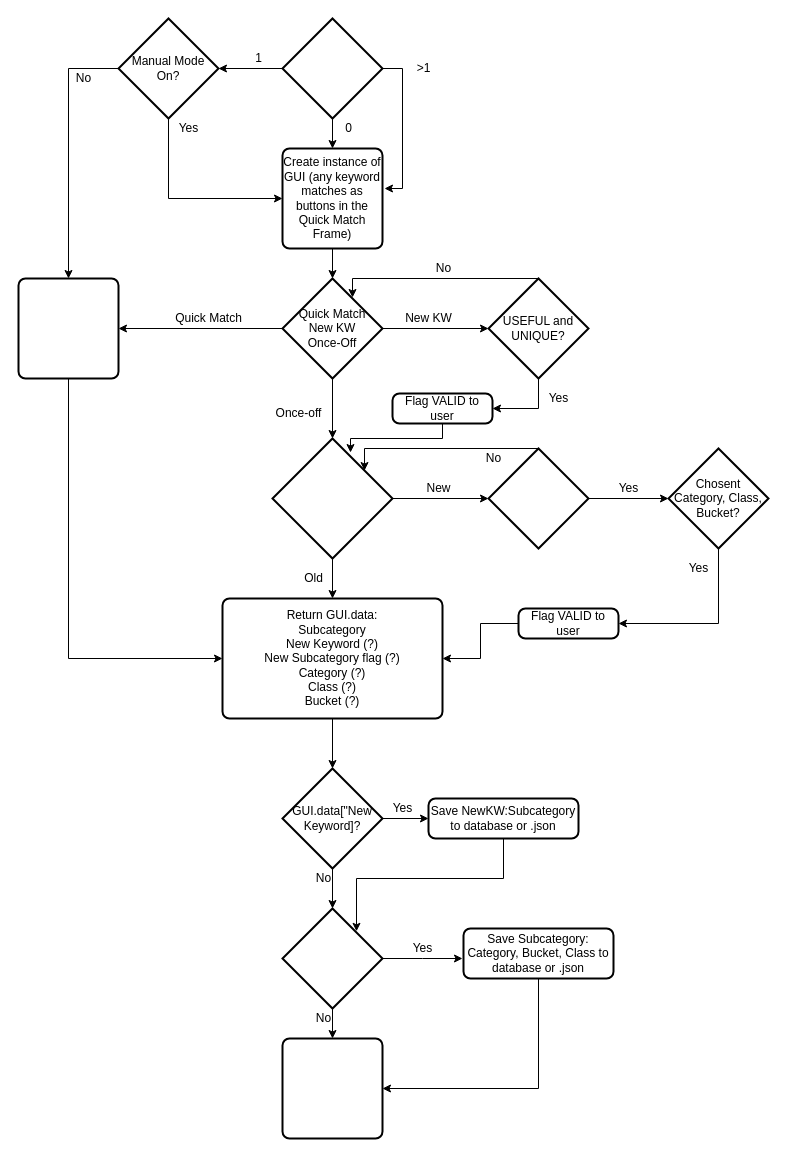
Image size: 786x1156. Some labels were removed from this diagram. The shapes that lost their labels are listed below. From the top down, each one's box as (x1, y1, x2, y2) in pixels, then its label:
(281, 17, 383, 119): How many keyword matches?
(17, 277, 119, 379): Retrieve subcategory from kw:subcategory pair in kwMap
(271, 437, 393, 559): Choose a subcategory: Old or New?
(487, 447, 589, 549): UNIQUE?
(281, 907, 383, 1009): GUI.data["New Subcategory"]?
(281, 1037, 383, 1139): Write to CSV the subcategory
